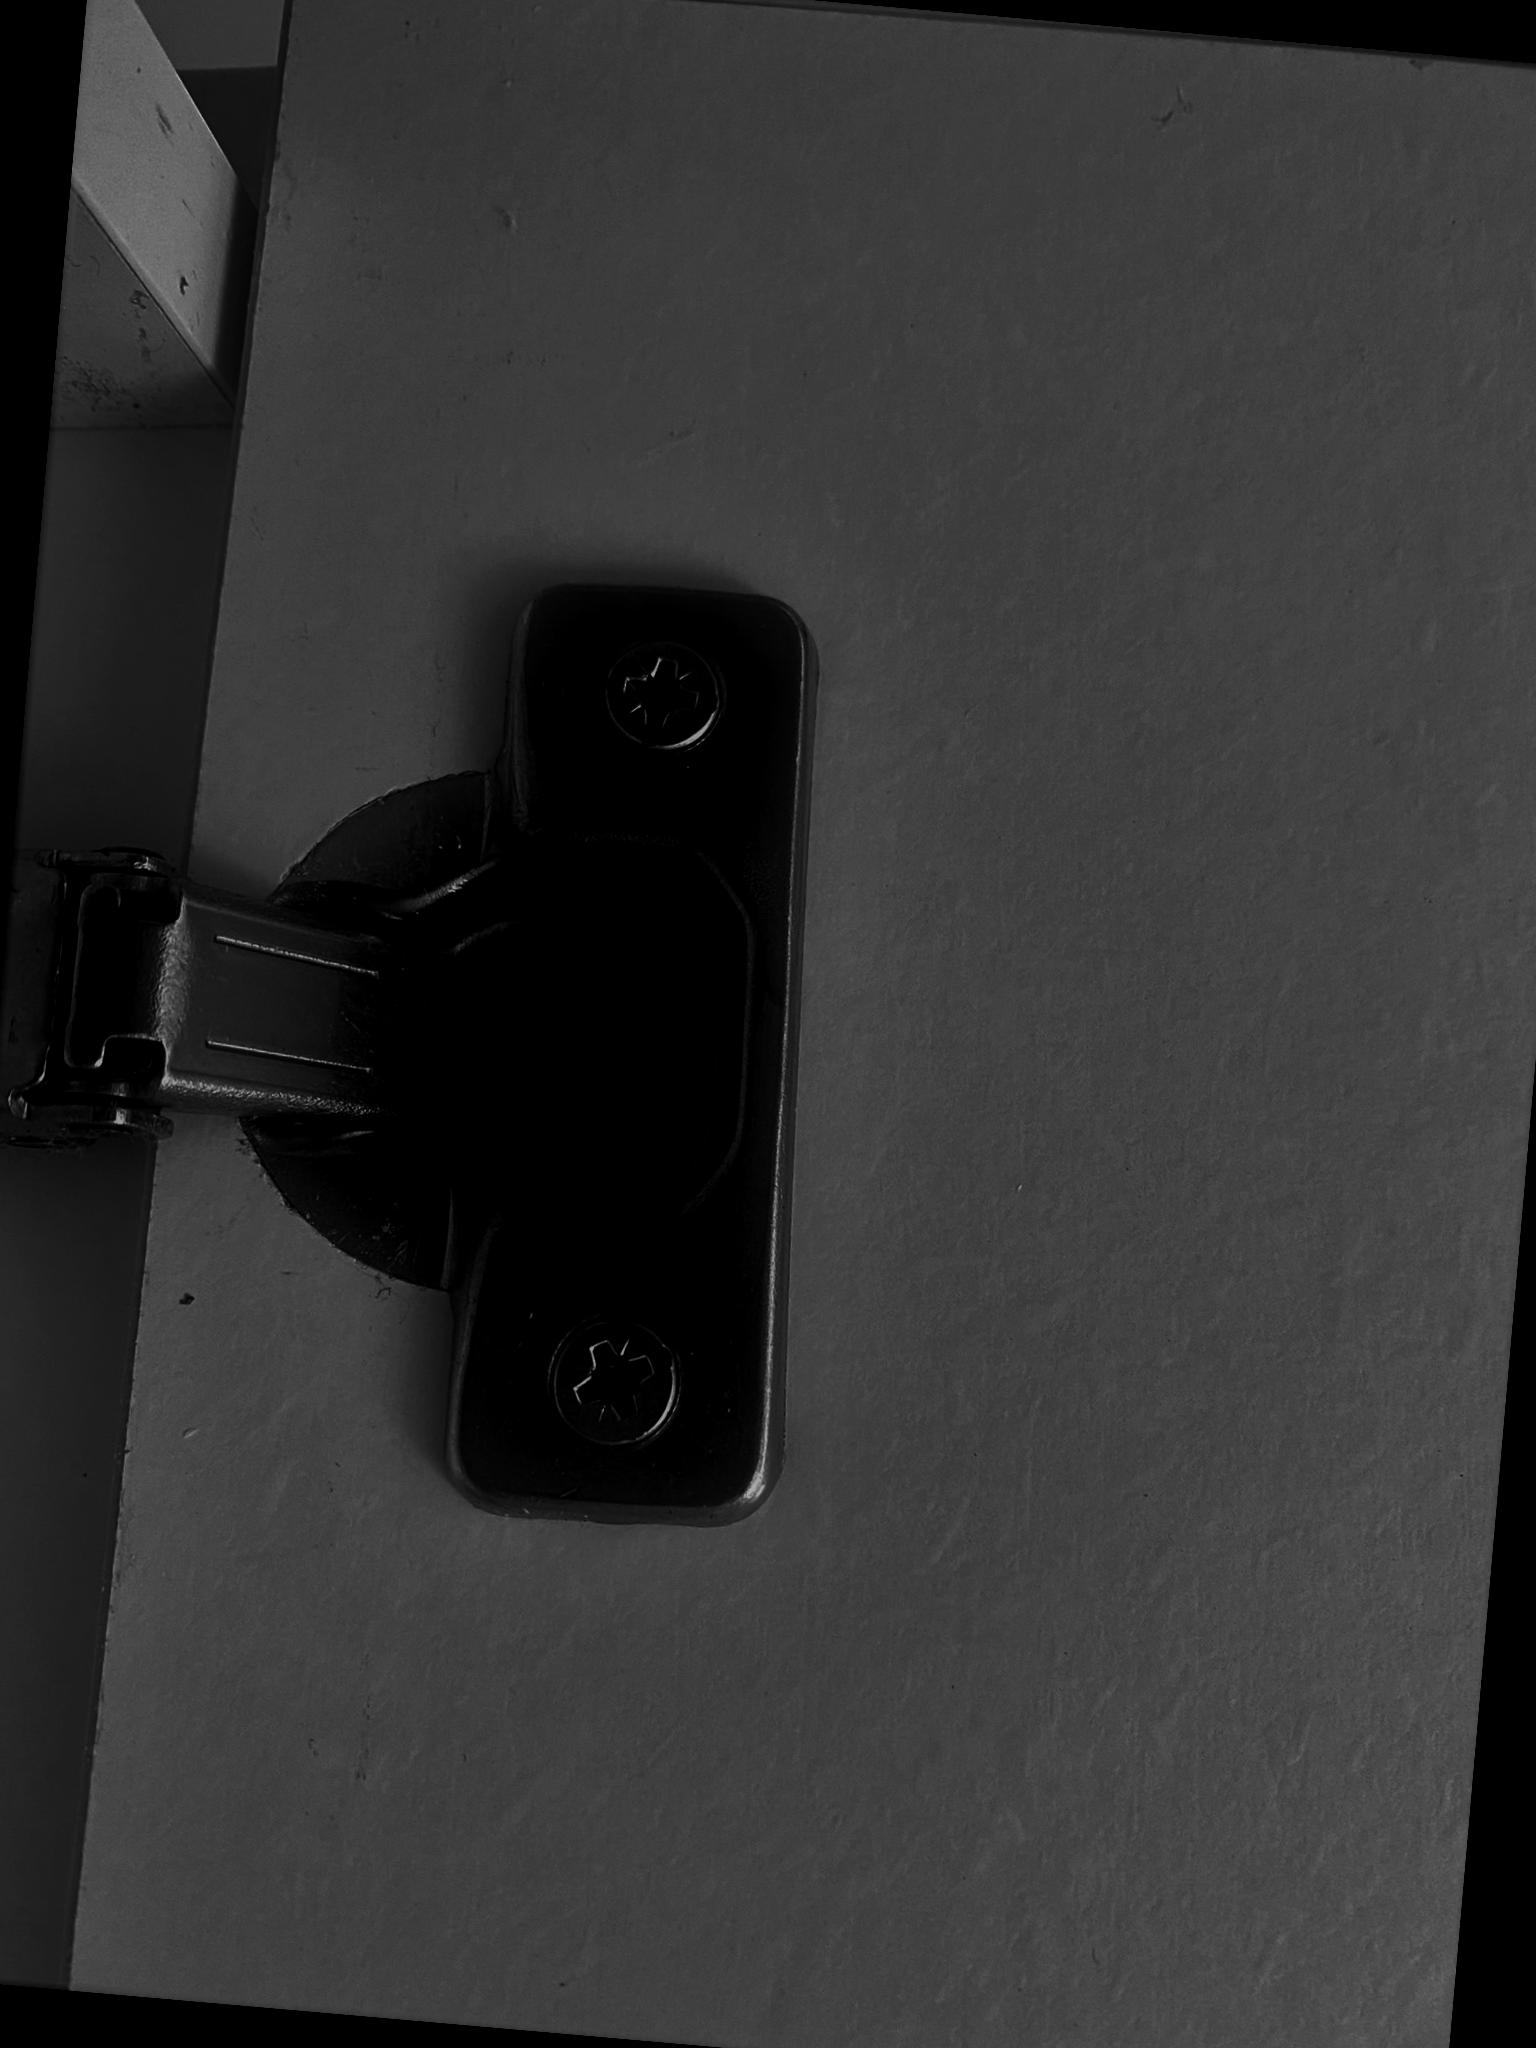screw: (542, 1308, 684, 1456), (594, 627, 728, 761)
